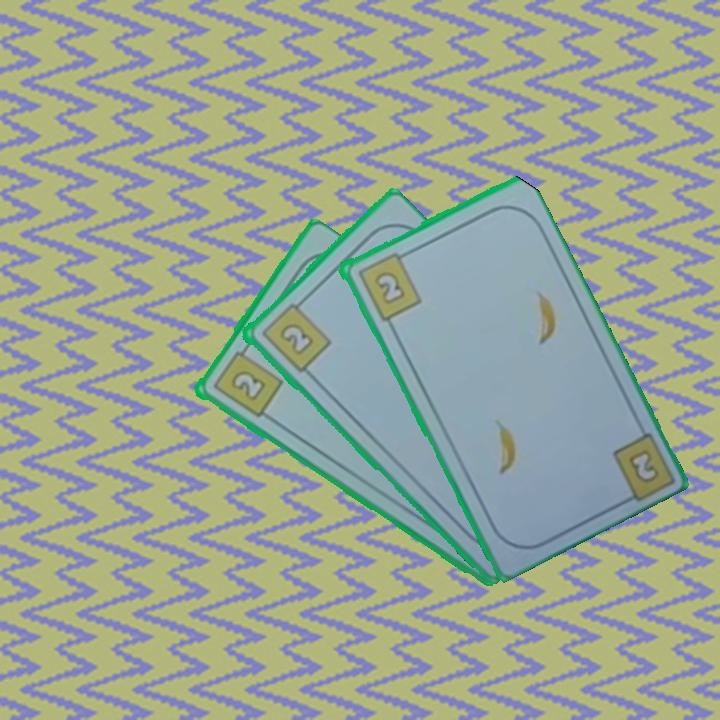2b: (209, 341, 285, 421), (257, 295, 333, 375), (353, 247, 424, 324), (624, 445, 662, 486)
